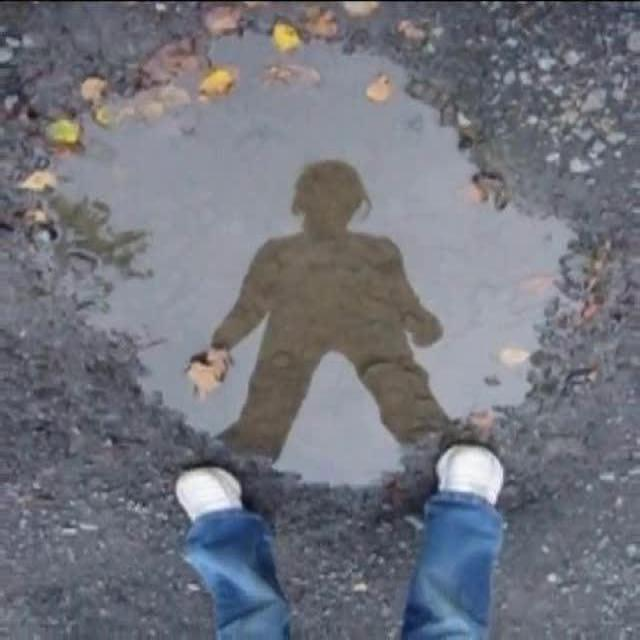other: (155, 15, 411, 149)
